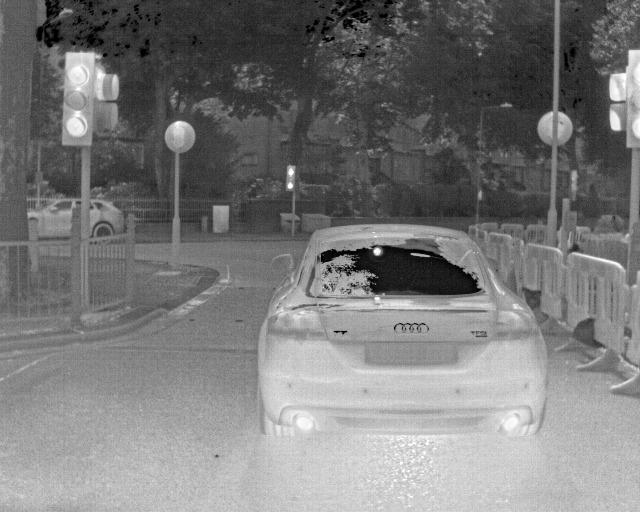car: (257, 222, 550, 441), (29, 200, 125, 244)
light: (63, 52, 92, 144), (92, 66, 119, 131), (627, 50, 639, 148), (610, 73, 628, 132), (285, 165, 295, 191)
sign: (539, 112, 572, 144), (166, 121, 195, 151)
